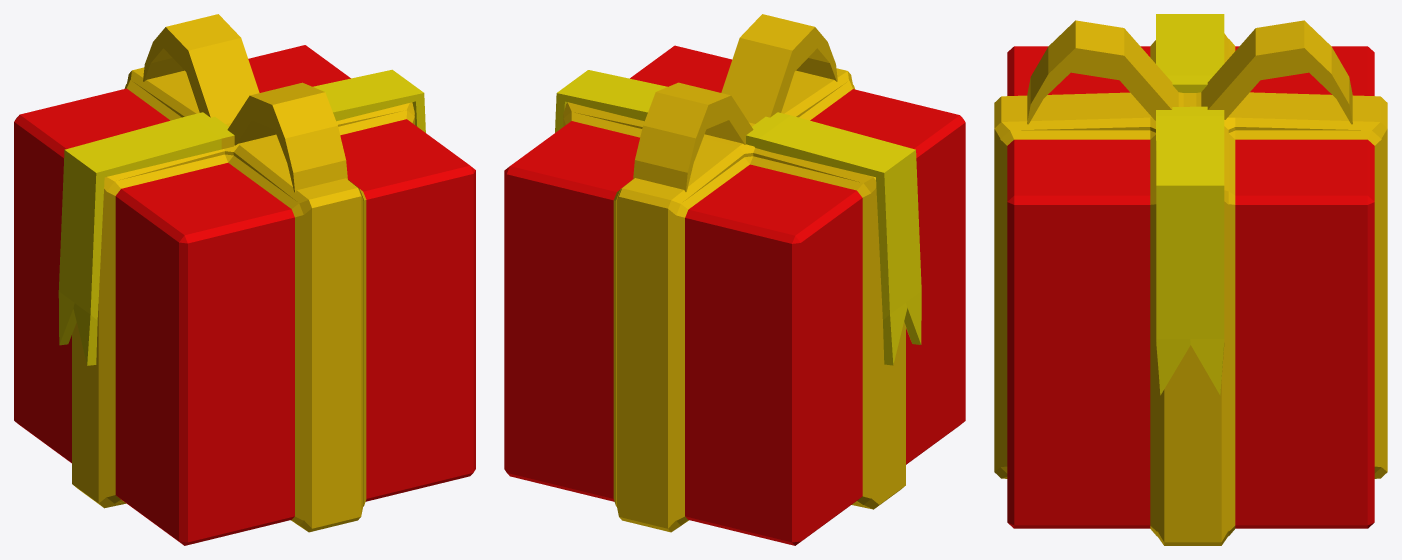
File: present.fbx
3 views of the same model, side by side, from view 1: azimuth 30°, elevation 25°; view 2: azimuth 150°, elevation 25°; view 3: azimuth 270°, elevation 25° (orthographic). The views are drawn at different scales.
Parts seen in each view (by area): view 1: Cube; view 2: Cube; view 3: Cube.
Part boxes in pixels (left/top/right/bottom): Cube: left=14, top=14, right=475, bottom=545; Cube: left=504, top=14, right=965, bottom=545; Cube: left=994, top=14, right=1387, bottom=545.
Size of the model in its own units: 231 by 262 by 214.
